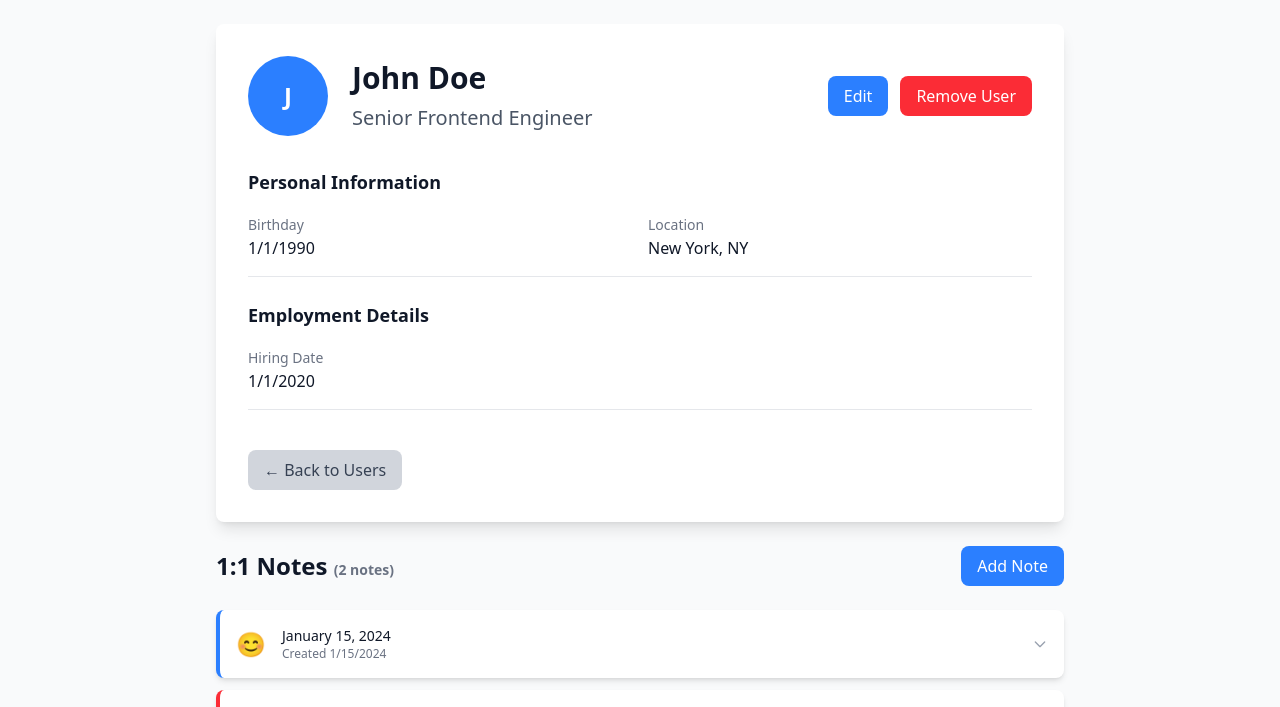
Test case: UserDetail › opens note modal for editing when edit note is clicked
Step 1. Click the element with test id "note-card-1" → (336, 636), box [236,626,1048,662]
(page scrolled)
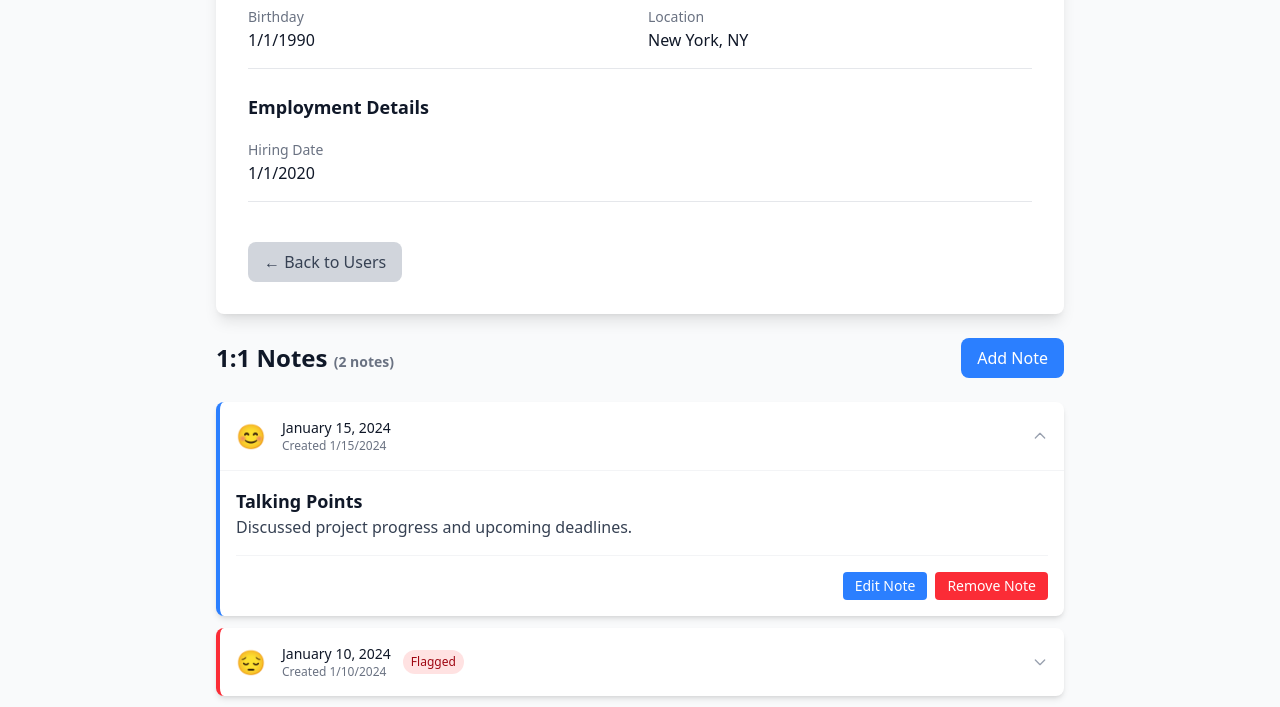
Step 2. Click the button "Edit Note" → (885, 586), box [843,572,927,600]
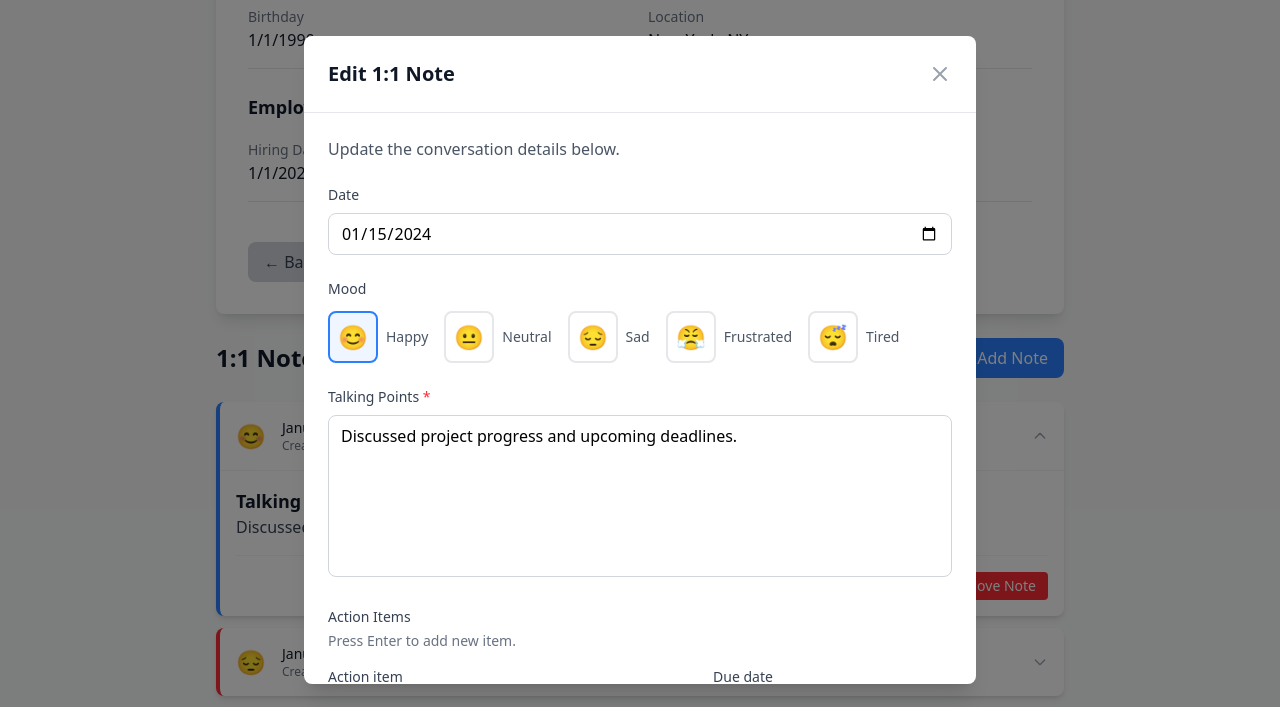
Expected: the heading "Edit 1:1 Note" is shown, [328,60,455,88]
